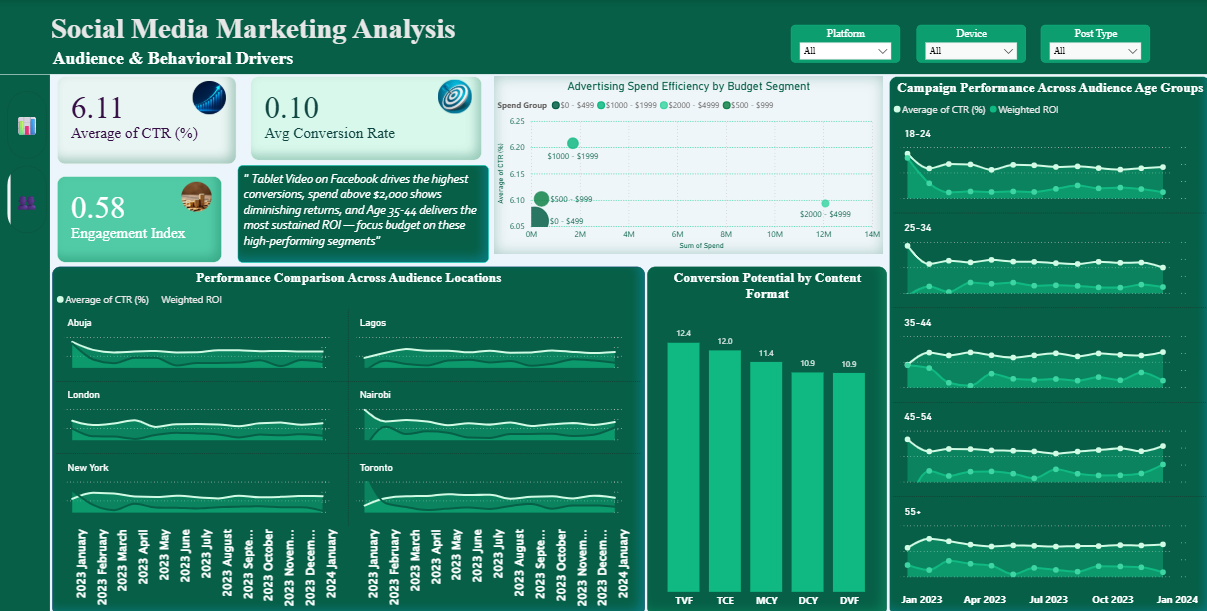

Layout of this report page (visuals, bound fields, positions):
{"tool":"powerbi","page":{"name":"👥","canvas":[1820,920],"ordinal":1},"visuals":[{"type":"shape","box":[11.7,112.6,75.7,807.8],"z":0},{"type":"group","id":"g1","title":"Group 2","box":[388.4,114.6,345.6,126.2],"z":0,"group":"g6"},{"type":"group","id":"g2","title":"Group 1","box":[388.4,114.6,345.6,126.2],"z":0,"group":"g1"},{"type":"multiRowCard","fields":{"Values":["Sheet1.Avg Conversion Rate"]},"box":[388.4,114.6,344.8,125.5],"z":0,"group":"g2"},{"type":"multiRowCard","fields":{"Values":["Avg(Sheet1.CTR (%))"]},"box":[99,116.5,267.2,130.6],"z":0,"group":"g4"},{"type":"group","id":"g3","title":"Group 1","box":[99,264.1,245.9,128.6],"z":0,"group":"g5"},{"type":"multiRowCard","fields":{"Values":["Sheet1.EngagementIndex"]},"box":[99,264.1,245.9,128.6],"z":0,"group":"g3"},{"type":"shape","box":[11.7,0,1807.8,112],"z":1000},{"type":"image","box":[649.6,114.6,85.4,60.2],"z":1000,"group":"g6"},{"type":"image","box":[295.5,116.5,59.7,63.5],"z":1000,"group":"g4"},{"type":"image","box":[279.8,264.1,55,60.8],"z":1000,"group":"g5"},{"type":"pageNavigator","box":[18.7,127.8,64.6,232.5],"z":2000},{"type":"textbox","box":[83.3,14.4,641.6,70.3],"z":3000},{"type":"textbox","box":[87.4,68,646.6,77.7],"z":4000},{"type":"slicer","title":"Platform","fields":{"Values":["Sheet1.Platform"]},"box":[1192.3,38.8,163.1,56.3],"z":5000},{"type":"slicer","title":"Device","fields":{"Values":["Sheet1.Device"]},"box":[1380.6,38.8,163.1,56.3],"z":6000},{"type":"slicer","title":"Post Type","fields":{"Values":["Calendar.Month","Sheet1.Post_Type"]},"box":[1565.1,38.8,163.1,56.3],"z":7000},{"type":"group","id":"g4","title":"Group 1","box":[99,116.5,267.2,130.6],"z":8000},{"type":"group","id":"g5","title":"Group 2","box":[99,264.1,244.7,128.2],"z":9000},{"type":"group","id":"g6","title":"Group 3","box":[388.4,114.6,345.6,126.2],"z":10000},{"type":"columnChart","title":"Conversion Probability","fields":{"Category":["Sheet1.Combo"],"Y":["Sheet1.Clicks Conversion Prob"]},"box":[979,400,357.3,520.4],"z":11000},{"type":"scatterChart","title":"Spend Saturation","fields":{"X":["Sum(Sheet1.Spend)"],"Series":["Sheet1.Spend Group"],"Y":["Avg(Sheet1.CTR (%))"],"Size":["Avg(Sheet1.ROI)"]},"box":[750,116.5,580.6,264.1],"z":12000},{"type":"areaChart","title":"Audience Age attribute in correlation with CTR & ROI Growth","fields":{"Category":["Calendar.Date.Variation.Date Hierarchy.Year","Calendar.Date.Variation.Date Hierarchy.Month"],"Y":["Avg(Sheet1.CTR (%))"],"Y2":["Sheet1.Weighted ROI"],"Rows":["Sheet1.Audience_AgeGroup"]},"box":[1339.8,116.5,479.6,803.9],"z":13000},{"type":"areaChart","title":"Audience Location attribute in correlation with CTR & ROI Growth","fields":{"Category":["Calendar.Date.Variation.Date Hierarchy.Year","Calendar.Date.Variation.Date Hierarchy.Month"],"Y":["Avg(Sheet1.CTR (%))"],"Y2":["Sheet1.Weighted ROI"],"Rows":["Sheet1.Audience_Location"]},"box":[91.3,400,883.5,520.4],"z":14000},{"type":"textbox","box":[367,246.6,374.8,145.6],"z":15000}]}

Visuals, with their boxes in screenshot pixels (x1, y1, x2, y2):
shape: pyautogui.locateOnScreen(0, 70, 40, 610)
"Group 2" group: pyautogui.locateOnScreen(244, 71, 479, 157)
"Group 1" group: pyautogui.locateOnScreen(244, 71, 479, 157)
multiRowCard - Sheet1.Avg Conversion Rate: pyautogui.locateOnScreen(244, 71, 478, 156)
multiRowCard - Avg(Sheet1.CTR (%)): pyautogui.locateOnScreen(48, 73, 229, 161)
"Group 1" group: pyautogui.locateOnScreen(48, 173, 215, 260)
multiRowCard - Sheet1.EngagementIndex: pyautogui.locateOnScreen(48, 173, 215, 260)
shape: pyautogui.locateOnScreen(0, 0, 1206, 70)
image: pyautogui.locateOnScreen(421, 71, 479, 112)
image: pyautogui.locateOnScreen(181, 73, 222, 116)
image: pyautogui.locateOnScreen(171, 173, 208, 214)
pageNavigator: pyautogui.locateOnScreen(0, 80, 38, 238)
textbox: pyautogui.locateOnScreen(38, 3, 472, 51)
textbox: pyautogui.locateOnScreen(40, 40, 479, 92)
"Platform" slicer: pyautogui.locateOnScreen(789, 20, 900, 58)
"Device" slicer: pyautogui.locateOnScreen(917, 20, 1027, 58)
"Post Type" slicer: pyautogui.locateOnScreen(1042, 20, 1152, 58)
"Group 1" group: pyautogui.locateOnScreen(48, 73, 229, 161)
"Group 2" group: pyautogui.locateOnScreen(48, 173, 214, 260)
"Group 3" group: pyautogui.locateOnScreen(244, 71, 479, 157)
"Conversion Probability" columnChart: pyautogui.locateOnScreen(645, 265, 887, 610)
"Spend Saturation" scatterChart: pyautogui.locateOnScreen(489, 73, 883, 252)
"Audience Age attribute in correlation with CTR & ROI Growth" areaChart: pyautogui.locateOnScreen(889, 73, 1206, 610)
"Audience Location attribute in correlation with CTR & ROI Growth" areaChart: pyautogui.locateOnScreen(43, 265, 642, 610)
textbox: pyautogui.locateOnScreen(230, 161, 484, 259)
